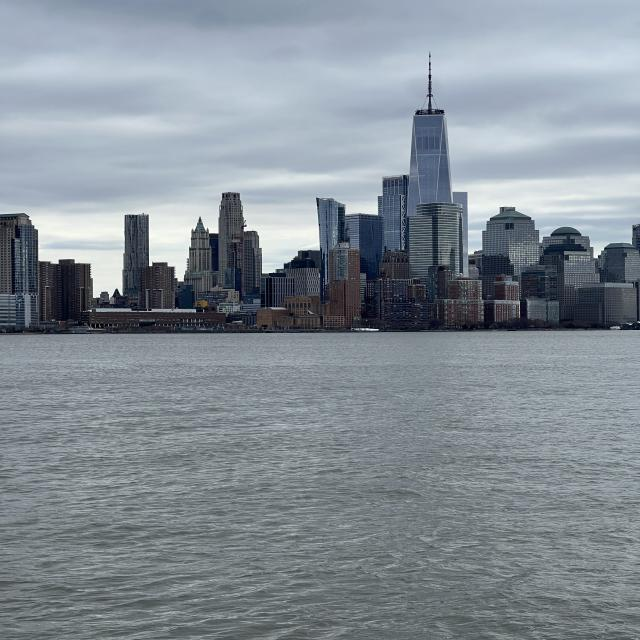WTC: (407, 51, 454, 206)
